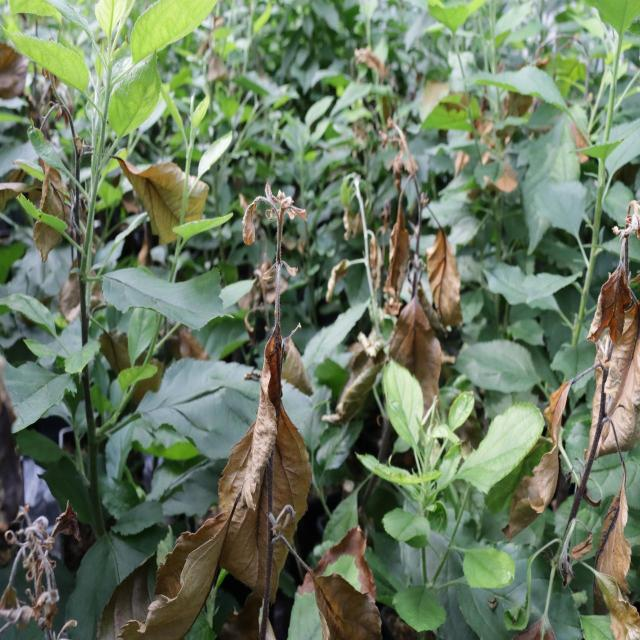-FireBlight-: (245, 195, 309, 640), (583, 200, 640, 640), (368, 146, 456, 418), (119, 165, 208, 239), (538, 394, 567, 533)
